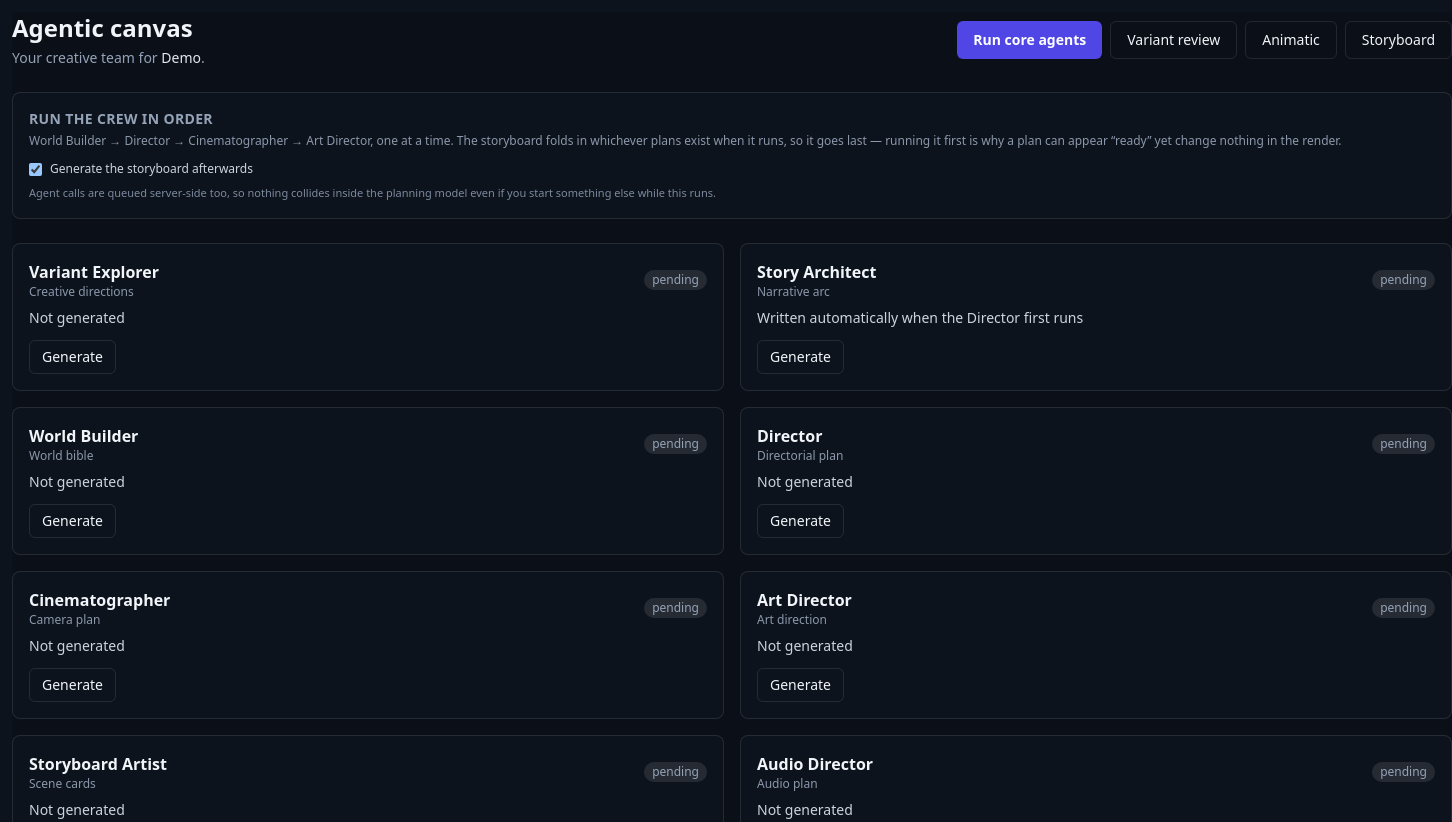
Test case: AgenticCanvas queue reconciliation › reloads once when the enqueue response is already terminal
Click the button "Run core agents".
click(1030, 40)  # box [957, 21, 1102, 59]
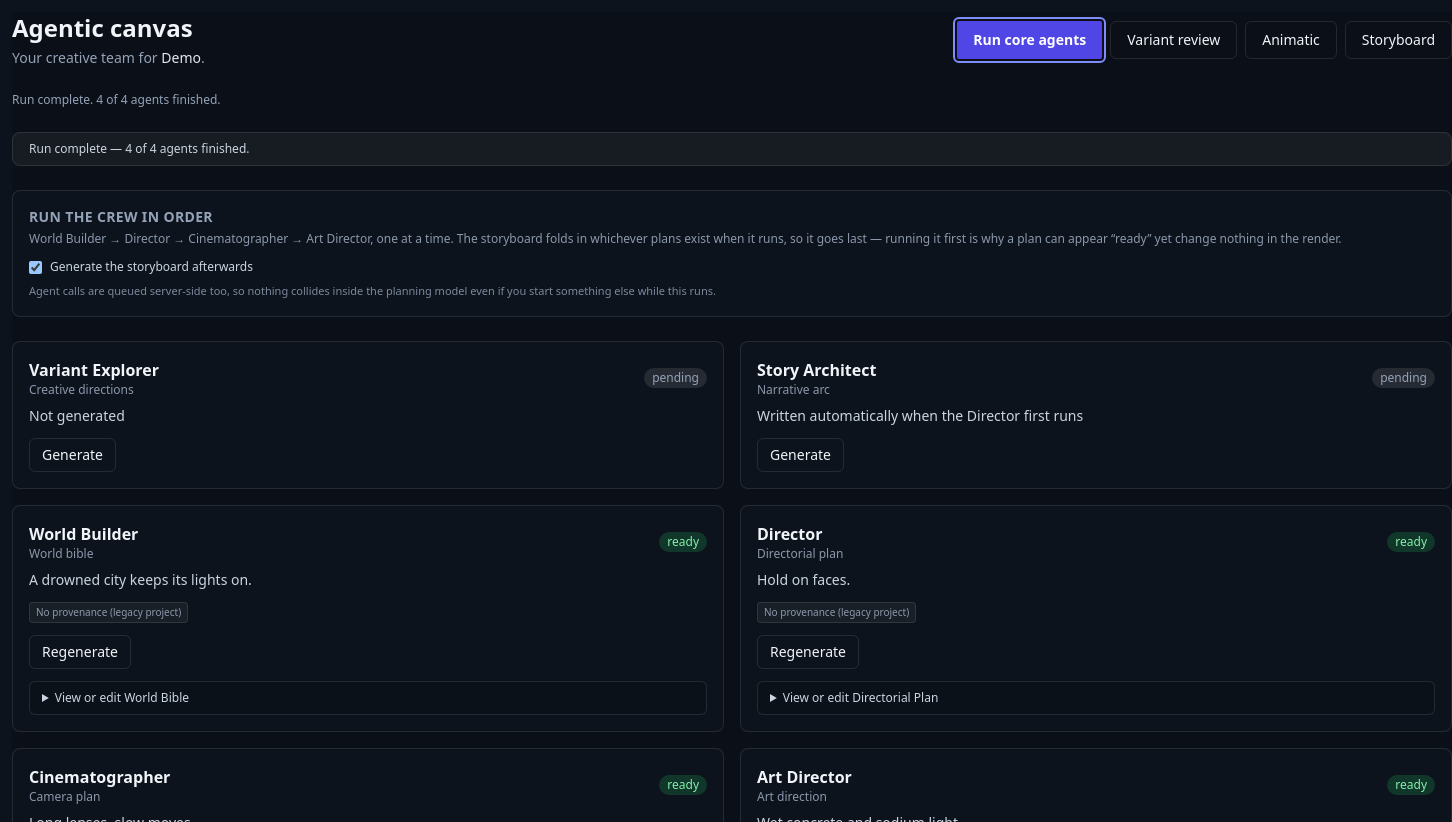
Expected: the text "ready" is shown 4 times, [659, 532, 707, 552]; [1387, 532, 1435, 552]; [659, 774, 707, 794]; [1387, 774, 1435, 794]
Now the text with test id "canvas-queue-complete" reads "Run complete — 4 of 4 agents finished.", box [29, 140, 250, 157]
